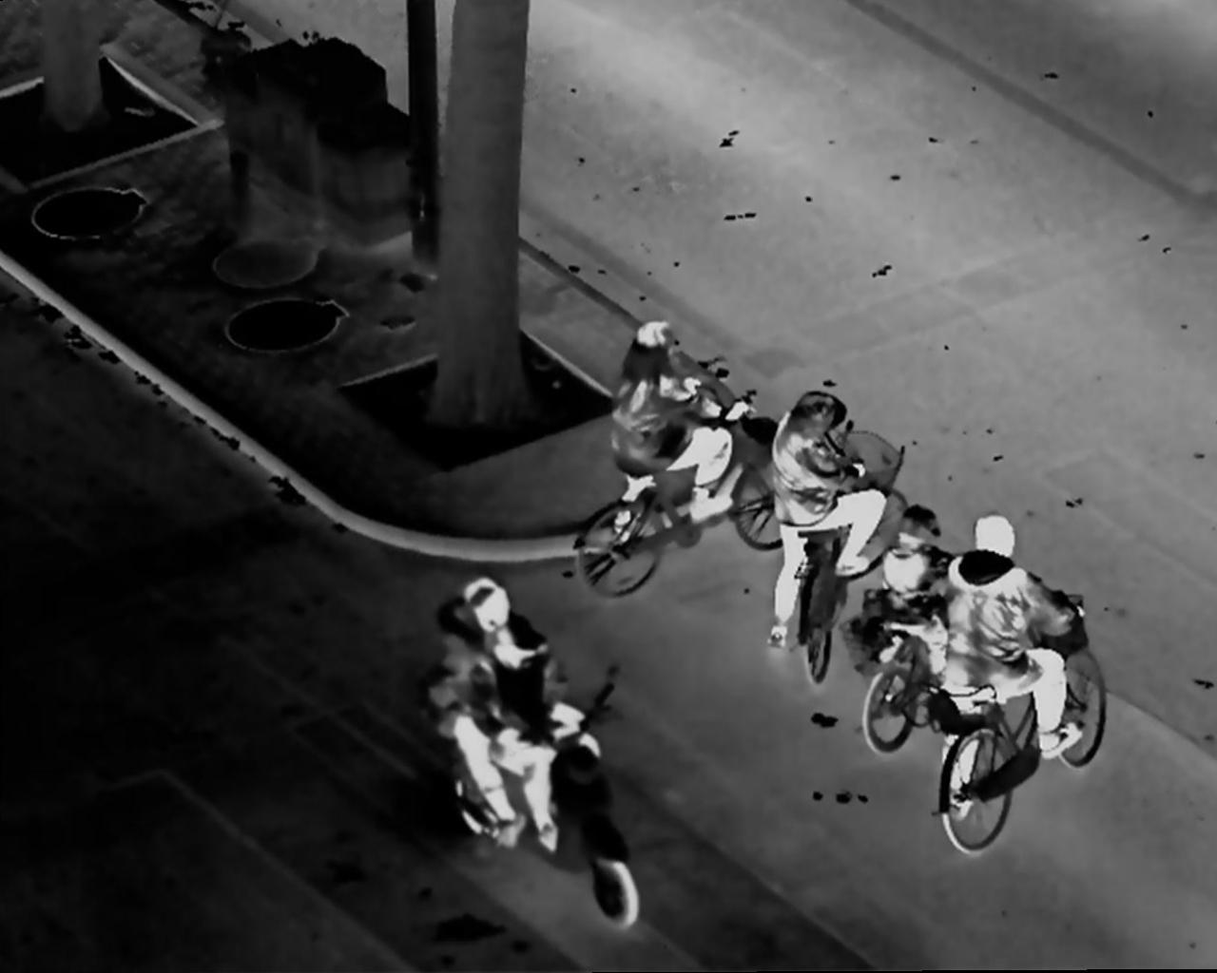person: (946, 512, 1087, 820), (608, 318, 754, 543), (478, 615, 609, 847), (769, 388, 886, 641), (430, 575, 509, 847), (876, 504, 951, 708)
